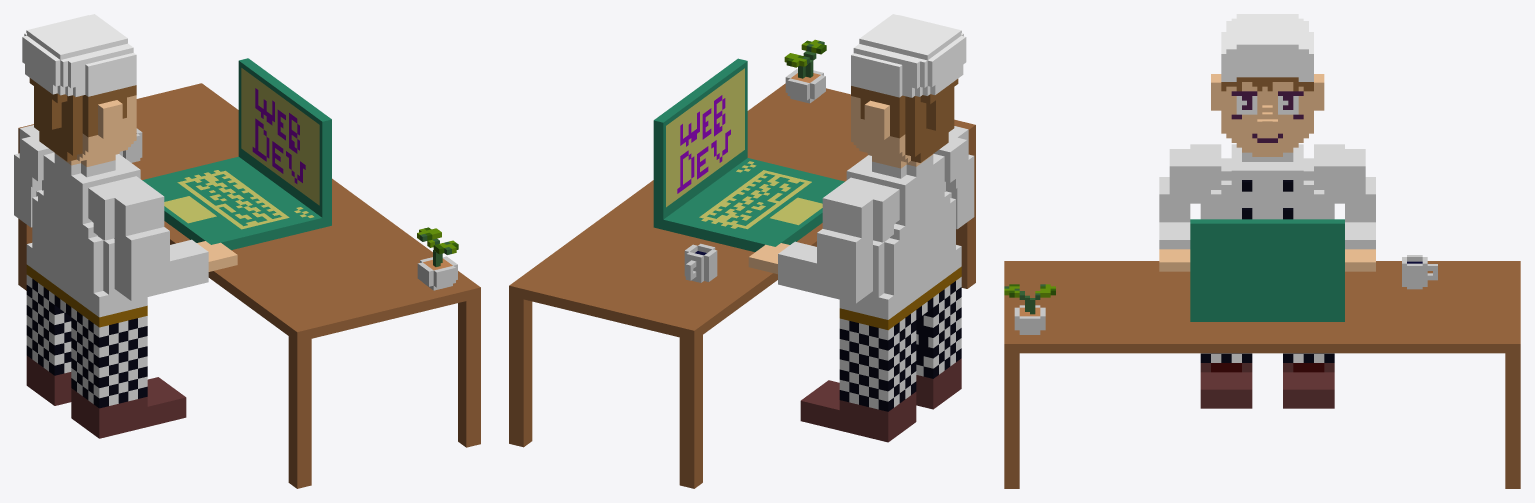
Rendered from cheflaptop.glb.
3 renders of one model, left to right at view 1: azimuth 30°, elevation 25°; view 2: azimuth 150°, elevation 25°; view 3: azimuth 270°, elevation 25°, orthographic. The views are drawn at different scales.
Parts seen in each view (by area): view 1: chef; view 2: chef; view 3: chef.
Boxes of the visible parts, x1,y1,x2,y2 form: chef: [14, 14, 480, 488]; chef: [509, 14, 975, 488]; chef: [1004, 14, 1520, 488].
Size of the model in its own units: 6.2 by 7.4 by 10.
1 material, 1 textured.
